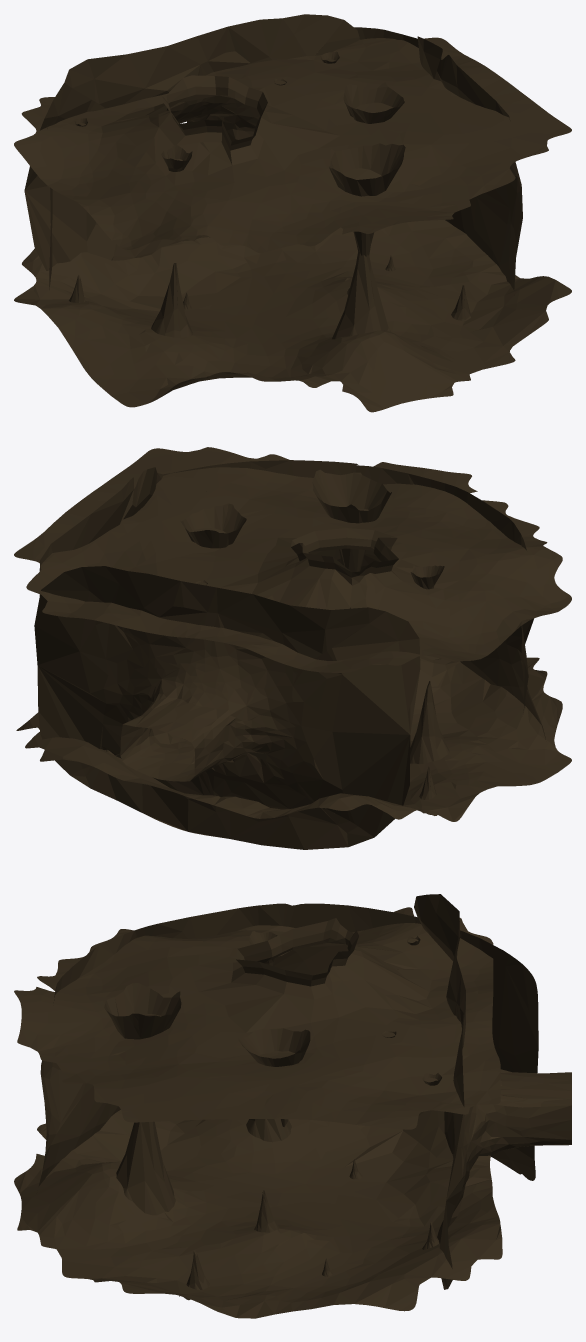
Rendered from Cave BG.fbx.
3 views of the same model, one above another, from view 1: azimuth 30°, elevation 25°; view 2: azimuth 150°, elevation 25°; view 3: azimuth 270°, elevation 25° (orthographic). The views are drawn at different scales.
Visible parts, largest first — view 1: Cave_Ceiling, Cave_Floor, Cliff_Face, Stalagmites, Cave_Walls; view 2: Cliff_Face, Cave_Ceiling, Cave_Floor, Cave_Walls, Stalagmites; view 3: Cave_Ceiling, Cave_Floor, Cave_Walls, Cliff_Face, Stalagmites.
Boxes of the visible parts, x1=… form: Cave_Ceiling: x1=14, y1=37, x2=571, y2=253; Cave_Floor: x1=14, y1=220, x2=571, y2=412; Cliff_Face: x1=24, y1=14, x2=359, y2=270; Stalagmites: x1=69, y1=51, x2=471, y2=339; Cave_Walls: x1=47, y1=27, x2=522, y2=295; Cliff_Face: x1=34, y1=566, x2=420, y2=849; Cave_Ceiling: x1=14, y1=447, x2=571, y2=672; Cave_Floor: x1=16, y1=655, x2=571, y2=821; Cave_Walls: x1=39, y1=460, x2=545, y2=739; Stalagmites: x1=104, y1=469, x2=449, y2=815; Cave_Ceiling: x1=14, y1=907, x2=500, y2=1129; Cave_Floor: x1=14, y1=1110, x2=502, y2=1318; Cave_Walls: x1=38, y1=903, x2=538, y2=1186; Cliff_Face: x1=414, y1=894, x2=571, y2=1289; Stalagmites: x1=104, y1=931, x2=441, y2=1300.
Bounding box in the file's own units: 210 × 118 × 221.
